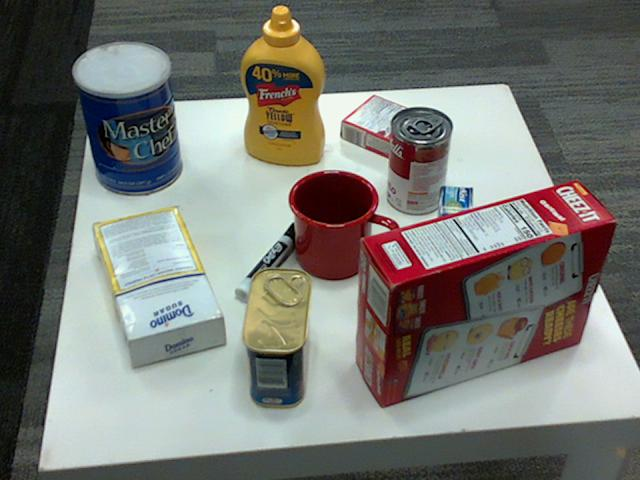cracker_box: (355, 178, 614, 404)
gelatin_box: (342, 94, 432, 159)
large_marker: (232, 223, 303, 306)
master_chef_can: (70, 42, 180, 195)
mug: (287, 167, 397, 276)
mustard_bottle: (239, 6, 324, 165)
potted_meat_can: (242, 267, 313, 408)
sugar_box: (91, 203, 224, 362)
tomato_soup_can: (385, 107, 451, 215)
tuna_fish_can: (432, 184, 472, 267)
